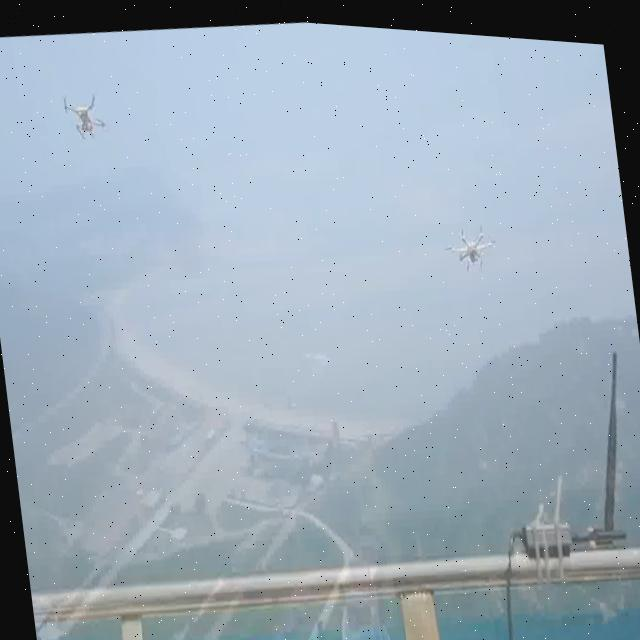drone: (59, 84, 110, 144), (444, 213, 497, 270)
